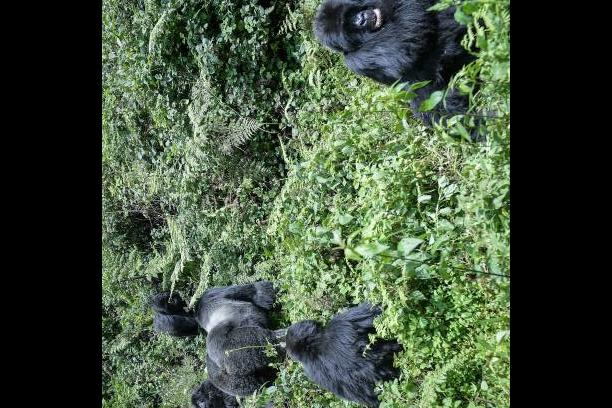goriile_montagne: (311, 0, 488, 92)
